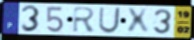3: (20, 4, 42, 34), (152, 8, 173, 35)
5: (45, 5, 66, 33)
R: (72, 6, 97, 34)
U: (97, 7, 122, 35)
X: (125, 8, 150, 35)
